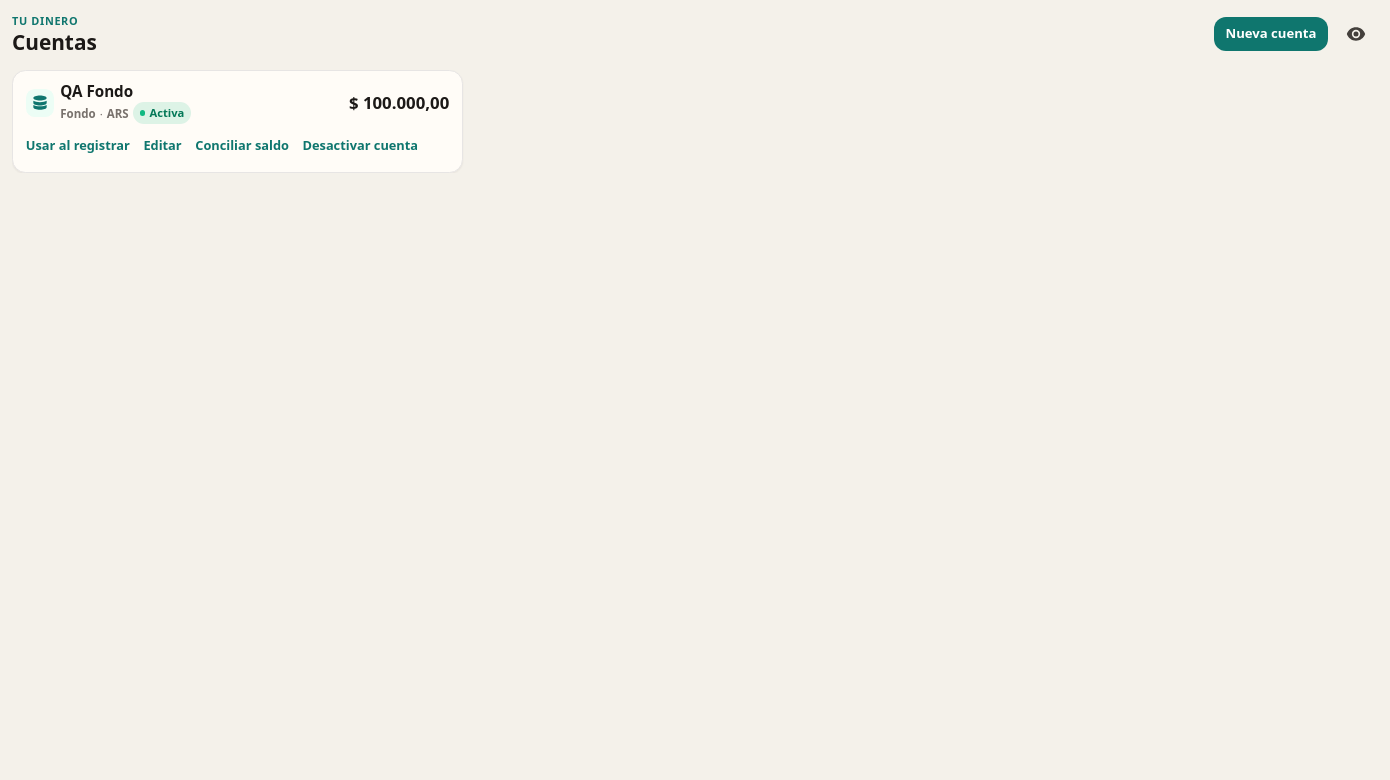
Test case: AccountsPage › opens the create form from the header CTA
Expected: the heading "QA Fondo" is shown, x1=60 y1=81 x2=133 y2=101
Click the button "Nueva cuenta" at (1271, 34), box x1=1214 y1=17 x2=1328 y2=51
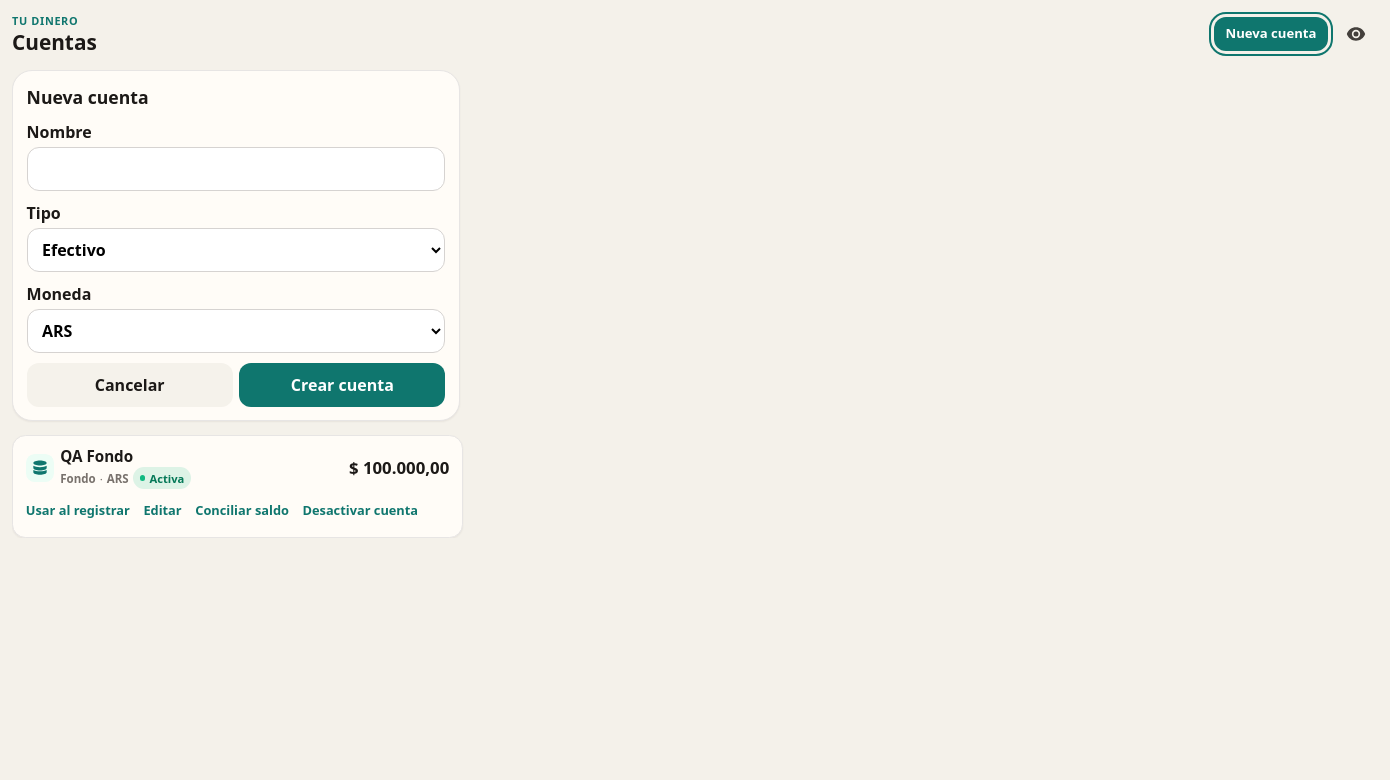
Now the heading "Nueva cuenta" is shown, box x1=27 y1=85 x2=149 y2=109
